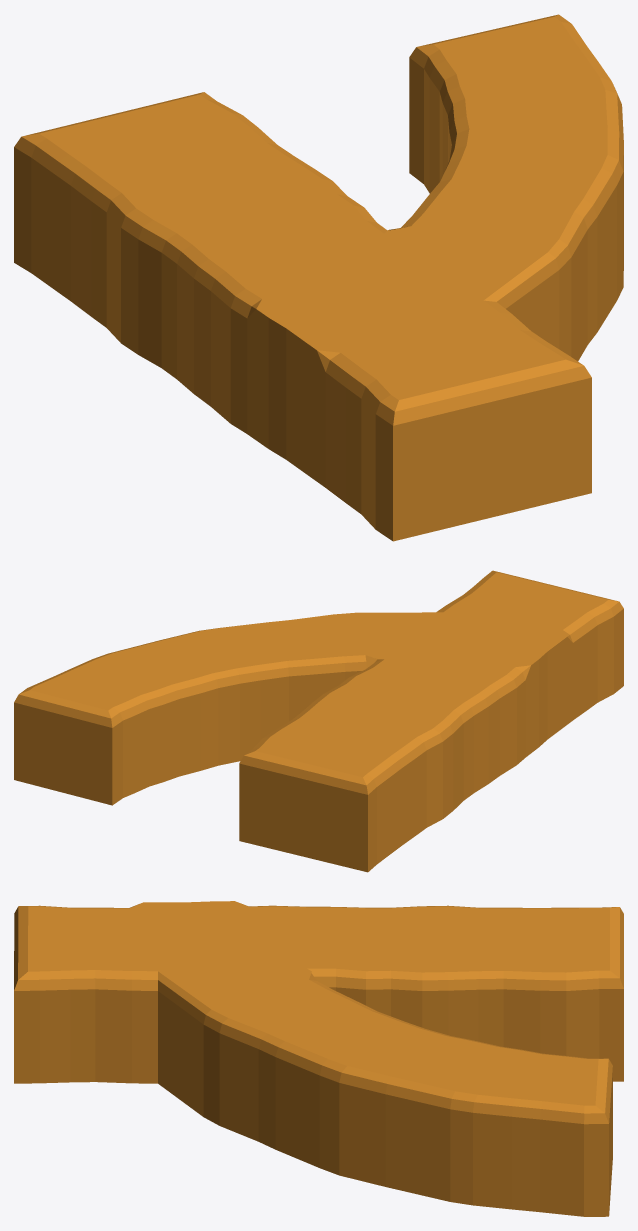
The model's file is Railway_Double_joint.fbx.
3 views of the same model, one above another, from view 1: azimuth 30°, elevation 25°; view 2: azimuth 150°, elevation 25°; view 3: azimuth 270°, elevation 25° (orthographic). The views are drawn at different scales.
Parts seen in each view (by area): view 1: double_joint.001; view 2: double_joint.001; view 3: double_joint.001.
Boxes of the visible parts, bbox=[...] form: double_joint.001: bbox=[14, 14, 623, 541]; double_joint.001: bbox=[14, 570, 623, 872]; double_joint.001: bbox=[14, 901, 623, 1216].
Bounding box in the file's own units: 430 × 100 × 525.
